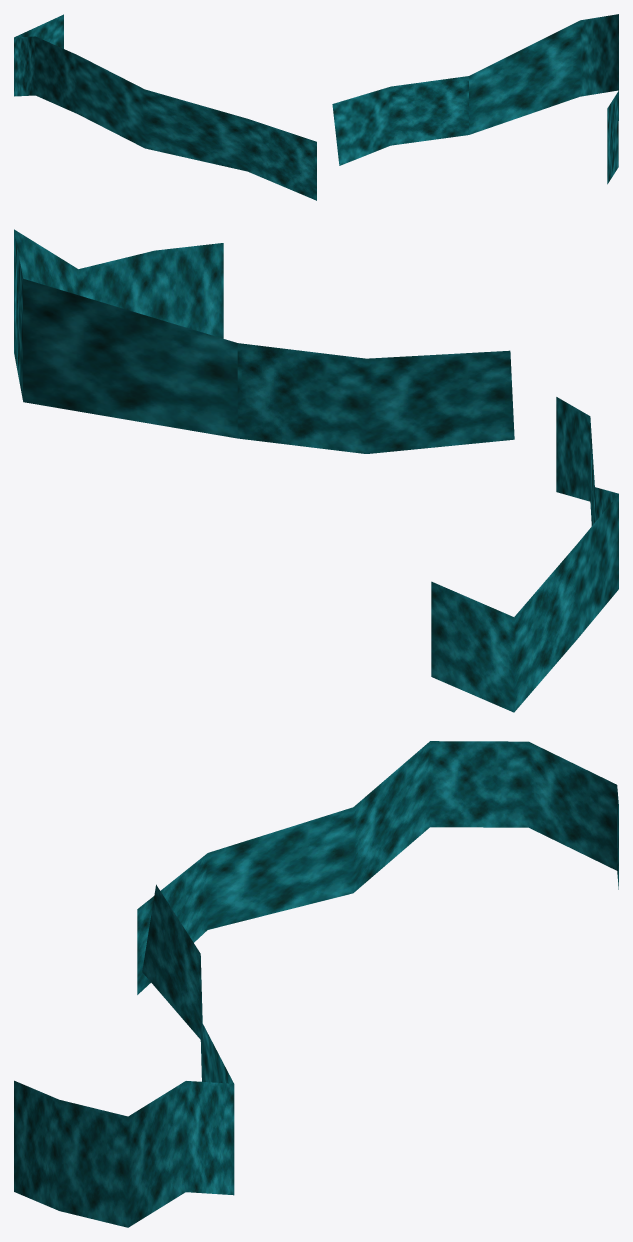
File: MIRKWOOD_FOGF01.fbx
3 renders of one model, top to bottom at view 1: azimuth 30°, elevation 25°; view 2: azimuth 150°, elevation 25°; view 3: azimuth 270°, elevation 25°, orthographic. The views are drawn at different scales.
Parts seen in each view (by area): view 1: MIRKWOOD_FOGF01; view 2: MIRKWOOD_FOGF01; view 3: MIRKWOOD_FOGF01.
Part boxes in pixels (bbox=[...]): MIRKWOOD_FOGF01: bbox=[14, 14, 618, 200]; MIRKWOOD_FOGF01: bbox=[14, 229, 618, 712]; MIRKWOOD_FOGF01: bbox=[14, 741, 618, 1227].
Size of the model in its own units: 684499 by 168672 by 527844.
Materials: 1 (1 with a texture image).
